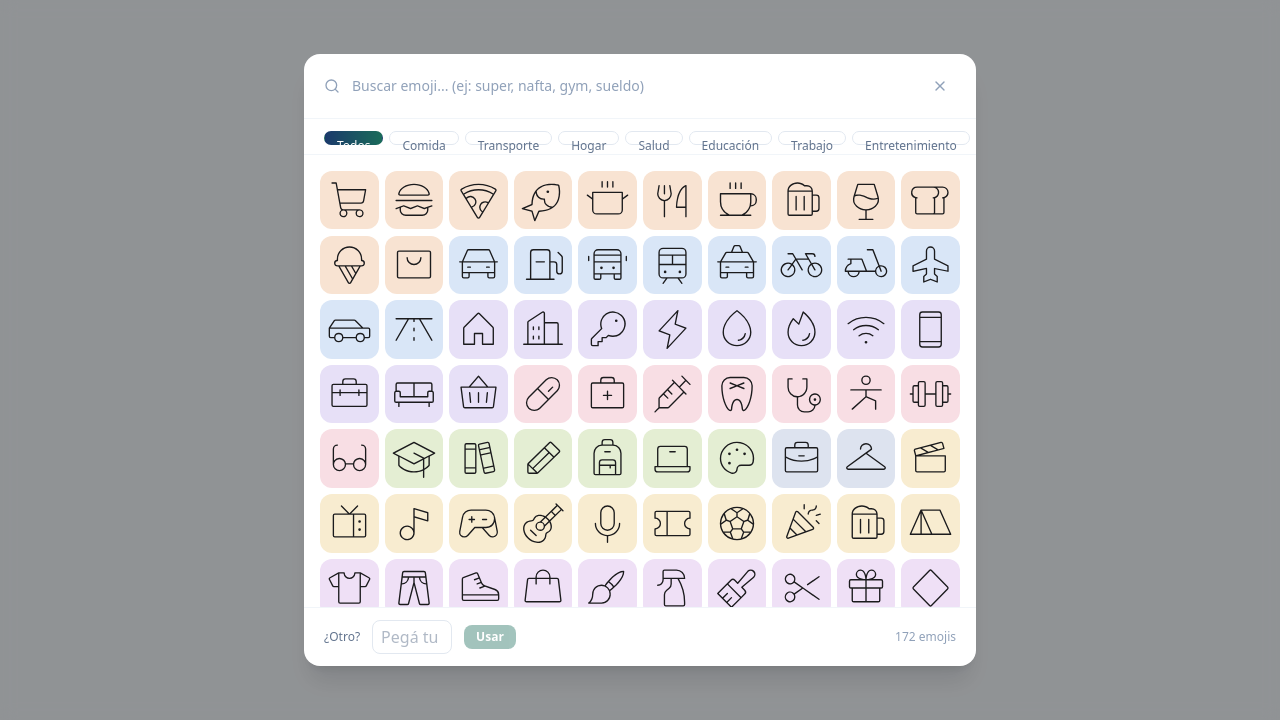
Test: EmojiPickerModal — búsqueda › búsqueda sin resultados → mensaje "Sin resultados"
The image size is (1280, 720).
Type "xyzabc123" into the field with placeholder "Buscar emoji... (ej: super, nafta, gym, sueldo)".
click(632, 86); type("xyzabc123")  # box [352, 76, 912, 96]
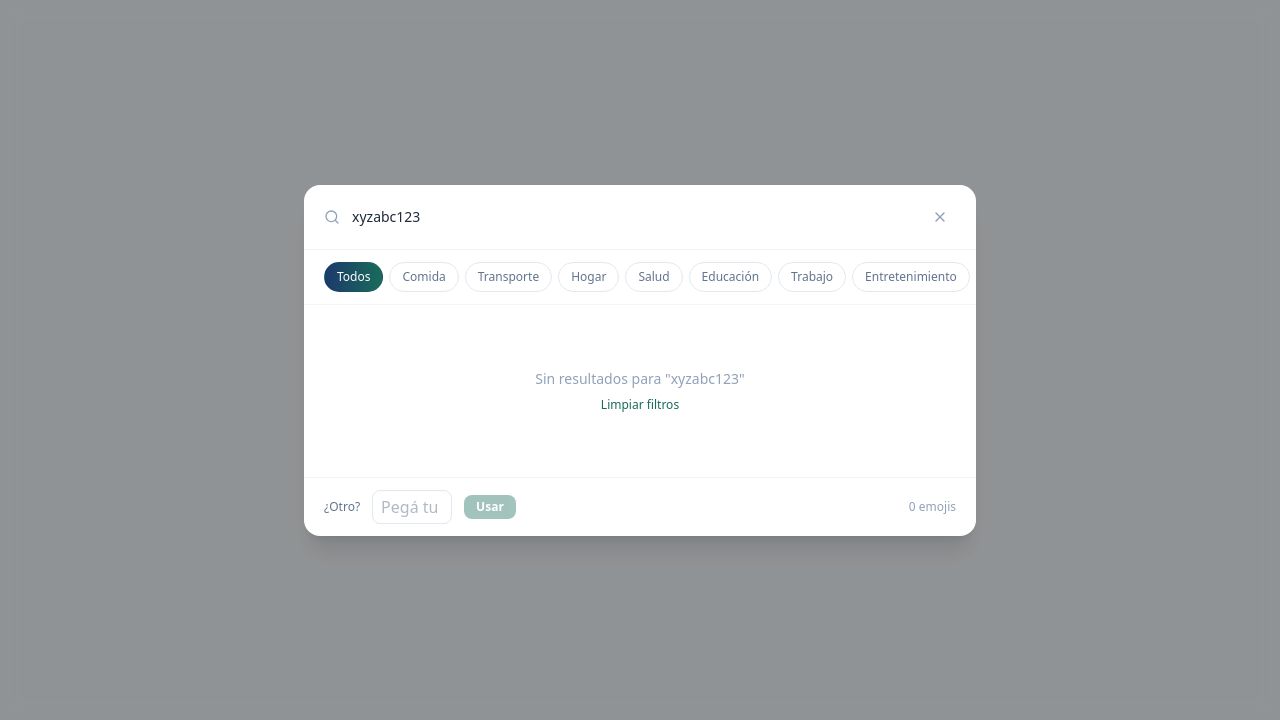
Expected: the text "Sin resultados para \"xyzabc123\"" is shown, [535, 368, 745, 388]
